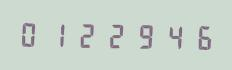four: (157, 20, 184, 51)
nine: (129, 20, 156, 50)
one: (45, 18, 72, 49)
six: (185, 21, 212, 51)
two: (101, 19, 128, 50), (73, 19, 100, 49)
zero: (17, 18, 44, 48)
